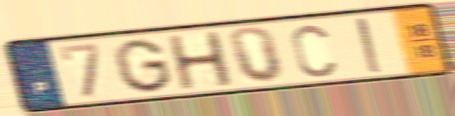0: (228, 25, 286, 86)
7: (56, 40, 104, 100)
C: (288, 22, 338, 80)
G: (110, 37, 175, 95)
H: (165, 29, 237, 92)
I: (352, 15, 387, 76)
